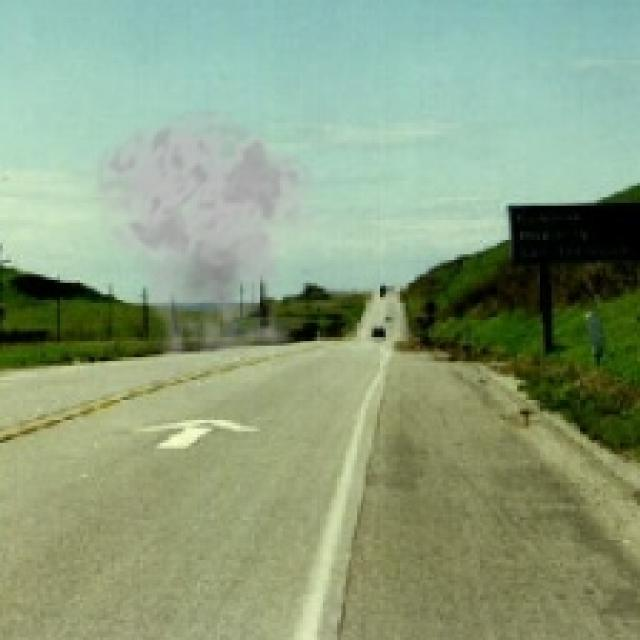Smoke: (83, 106, 334, 377)
